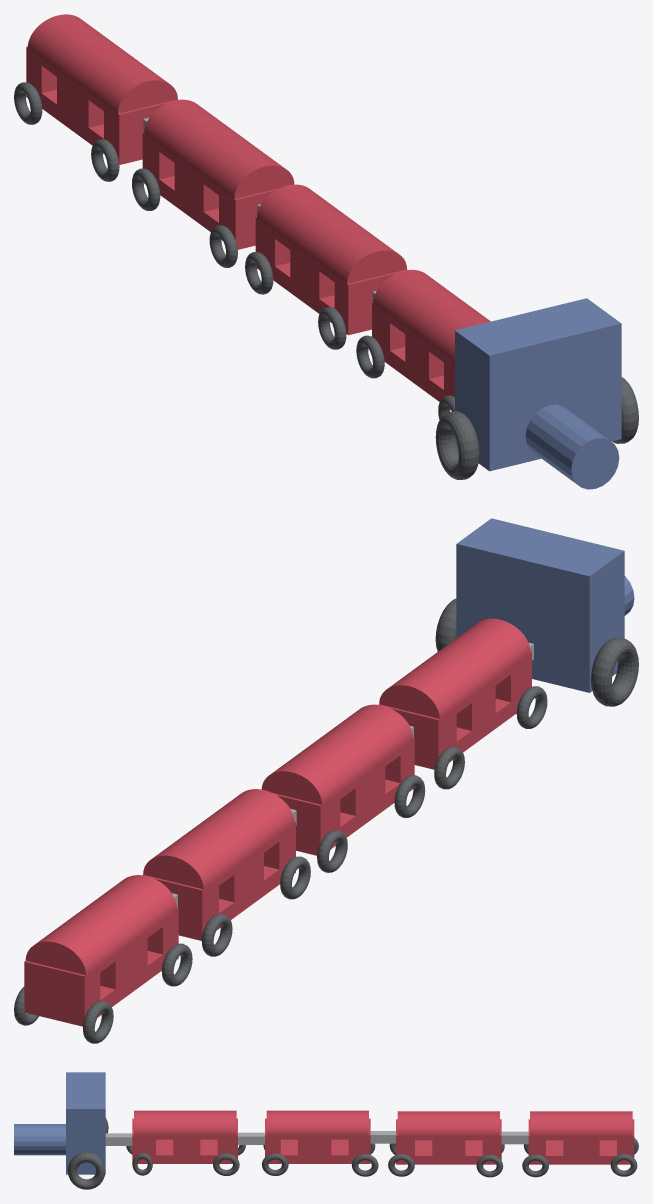
Rendered from Train in the dessert.glb.
3 views of the same model, one above another, from view 1: azimuth 30°, elevation 25°; view 2: azimuth 150°, elevation 25°; view 3: azimuth 270°, elevation 25° (orthographic). The views are drawn at different scales.
Parts seen in each view (by area): view 1: Mesh_Mesh_head_geo.001_lambert2SG.001; view 2: Mesh_Mesh_head_geo.001_lambert2SG.001; view 3: Mesh_Mesh_head_geo.001_lambert2SG.001.
Boxes of the visible parts, x1,y1,x2,y2 form: Mesh_Mesh_head_geo.001_lambert2SG.001: [14, 14, 638, 489]; Mesh_Mesh_head_geo.001_lambert2SG.001: [14, 518, 638, 1043]; Mesh_Mesh_head_geo.001_lambert2SG.001: [14, 1072, 638, 1189].
Size of the model in its own units: 74 by 53.5 by 396.
